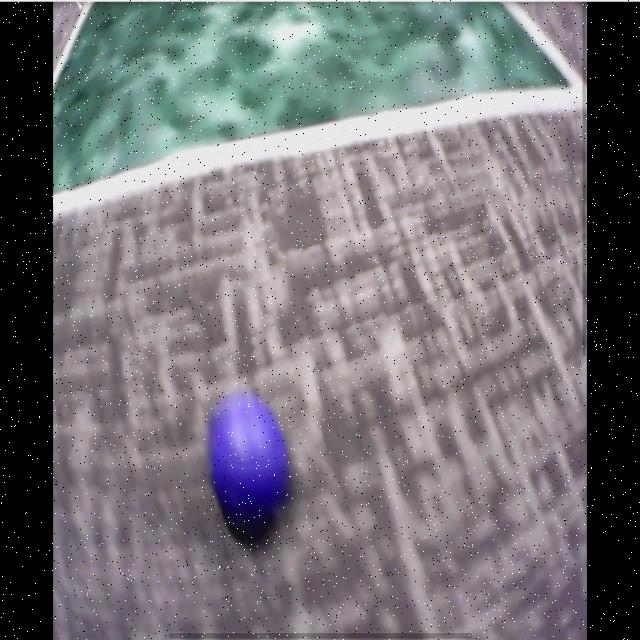ball: (214, 413, 287, 516)
